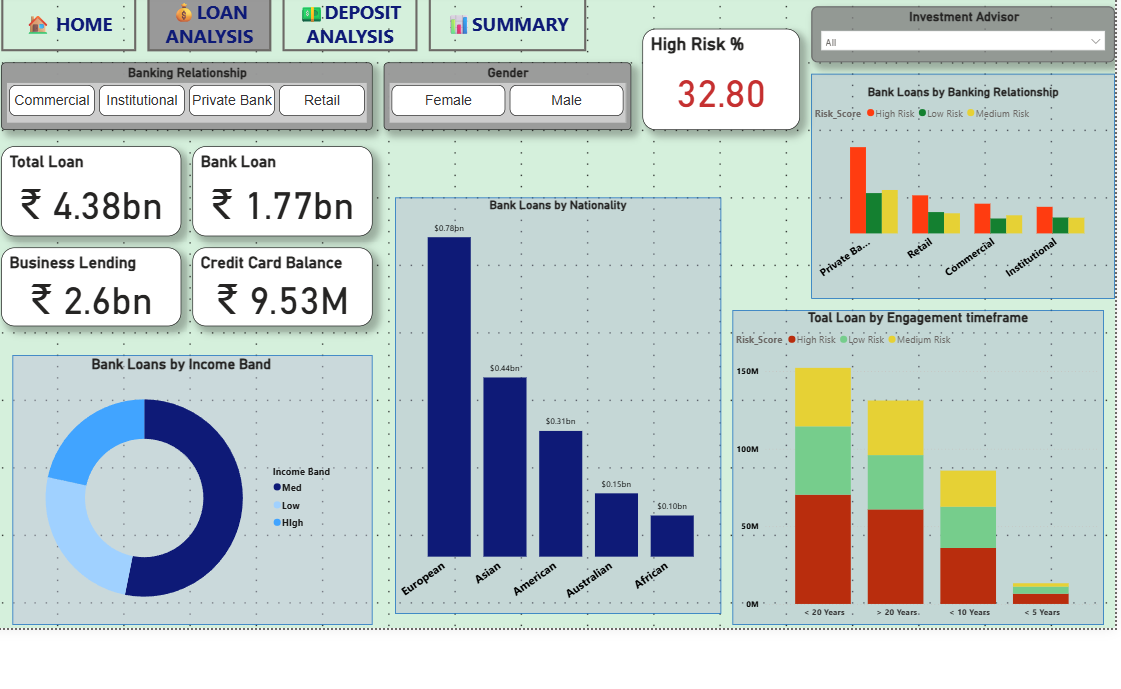

Layout of this report page (visuals, bound fields, positions):
{"tool":"powerbi","page":{"name":"LOAN ANALYSIS","canvas":[1600,900],"ordinal":1},"visuals":[{"type":"shape","box":[1056,448,528,448],"z":0},{"type":"shape","box":[576,288,464,592],"z":1000},{"type":"shape","box":[32,512,512,384],"z":2000},{"type":"card","title":"Total Loan","fields":{"Values":["banking_client.Total Loan"]},"box":[16,215.1,256,128],"z":3000},{"type":"card","title":"Bank Loan","fields":{"Values":["Sum(banking_client.Bank Loans)"]},"box":[288,215.1,256,128],"z":4000},{"type":"shape","box":[1168,112,432,320],"z":5000},{"type":"card","title":"Business Lending","fields":{"Values":["Sum(banking_client.Business Lending)"]},"box":[16,359.1,256,112],"z":6000},{"type":"card","title":"Credit Card Balance","fields":{"Values":["Sum(banking_client.Credit Card Balance)"]},"box":[288,359.1,256,112],"z":7000},{"type":"donutChart","title":"Bank Loans by Income Band","fields":{"Category":["banking_client.Income Band"],"Y":["Sum(banking_client.Bank Loans)"]},"box":[32,512,480,384],"z":8000},{"type":"clusteredColumnChart","title":"Bank Loans by Banking Relationship","fields":{"Category":["banking_client.BRId"],"Y":["Sum(banking_client.Bank Loans)"],"Series":["banking_client.Risk score"]},"box":[1168,128,432,288],"z":9000},{"type":"columnChart","title":"Bank Loans by Nationality","fields":{"Y":["Sum(banking_client.Bank Loans)"],"Category":["banking_client.Nationality"]},"box":[576,288,464,592],"z":10000},{"type":"columnChart","title":"Toal Loan by Engagement timeframe ","fields":{"Category":["banking_client.Engagement Timeframe"],"Y":["banking_client.Total Loan"],"Series":["banking_client.Risk_Score"]},"box":[1056,448,528,448],"z":11000},{"type":"slicer","title":"Investment Advisor","fields":{"Values":["investment_advisiors.Investment Advisor"]},"box":[1168,16,432,80],"z":12000},{"type":"actionButton","box":[224,0,176,80],"z":13000},{"type":"actionButton","box":[416,0,192,80],"z":14000},{"type":"ChicletSlicer1448559807354","title":"Banking Relationship","fields":{"Category":["banking_realtionships.Banking Relationship"]},"box":[16,96,528,96],"z":15000},{"type":"ChicletSlicer1448559807354","title":"Gender","fields":{"Category":["banking_client.Gender"]},"box":[560,96,352,96],"z":16000},{"type":"card","title":"High Risk %","fields":{"Values":["banking_client.High Risk Percentage"]},"box":[928,48,224,144],"z":17000},{"type":"actionButton","box":[624,0,224,80],"z":18000},{"type":"actionButton","box":[16,0,192,80],"z":19000}]}

Visuals, with their boxes on the page's 1600x900 design canvas (x1, y1, x2, y2). These are canvas units, not pixel positions in the 1121x689 screenshot, which may show the page scaled, cropped or inside an application window:
shape: {"left": 1056, "top": 448, "right": 1584, "bottom": 896}
shape: {"left": 576, "top": 288, "right": 1040, "bottom": 880}
shape: {"left": 32, "top": 512, "right": 544, "bottom": 896}
"Total Loan" card: {"left": 16, "top": 215, "right": 272, "bottom": 343}
"Bank Loan" card: {"left": 288, "top": 215, "right": 544, "bottom": 343}
shape: {"left": 1168, "top": 112, "right": 1600, "bottom": 432}
"Business Lending" card: {"left": 16, "top": 359, "right": 272, "bottom": 471}
"Credit Card Balance" card: {"left": 288, "top": 359, "right": 544, "bottom": 471}
"Bank Loans by Income Band" donutChart: {"left": 32, "top": 512, "right": 512, "bottom": 896}
"Bank Loans by Banking Relationship" clusteredColumnChart: {"left": 1168, "top": 128, "right": 1600, "bottom": 416}
"Bank Loans by Nationality" columnChart: {"left": 576, "top": 288, "right": 1040, "bottom": 880}
"Toal Loan by Engagement timeframe " columnChart: {"left": 1056, "top": 448, "right": 1584, "bottom": 896}
"Investment Advisor" slicer: {"left": 1168, "top": 16, "right": 1600, "bottom": 96}
actionButton: {"left": 224, "top": 0, "right": 400, "bottom": 80}
actionButton: {"left": 416, "top": 0, "right": 608, "bottom": 80}
"Banking Relationship" ChicletSlicer1448559807354: {"left": 16, "top": 96, "right": 544, "bottom": 192}
"Gender" ChicletSlicer1448559807354: {"left": 560, "top": 96, "right": 912, "bottom": 192}
"High Risk %" card: {"left": 928, "top": 48, "right": 1152, "bottom": 192}
actionButton: {"left": 624, "top": 0, "right": 848, "bottom": 80}
actionButton: {"left": 16, "top": 0, "right": 208, "bottom": 80}
